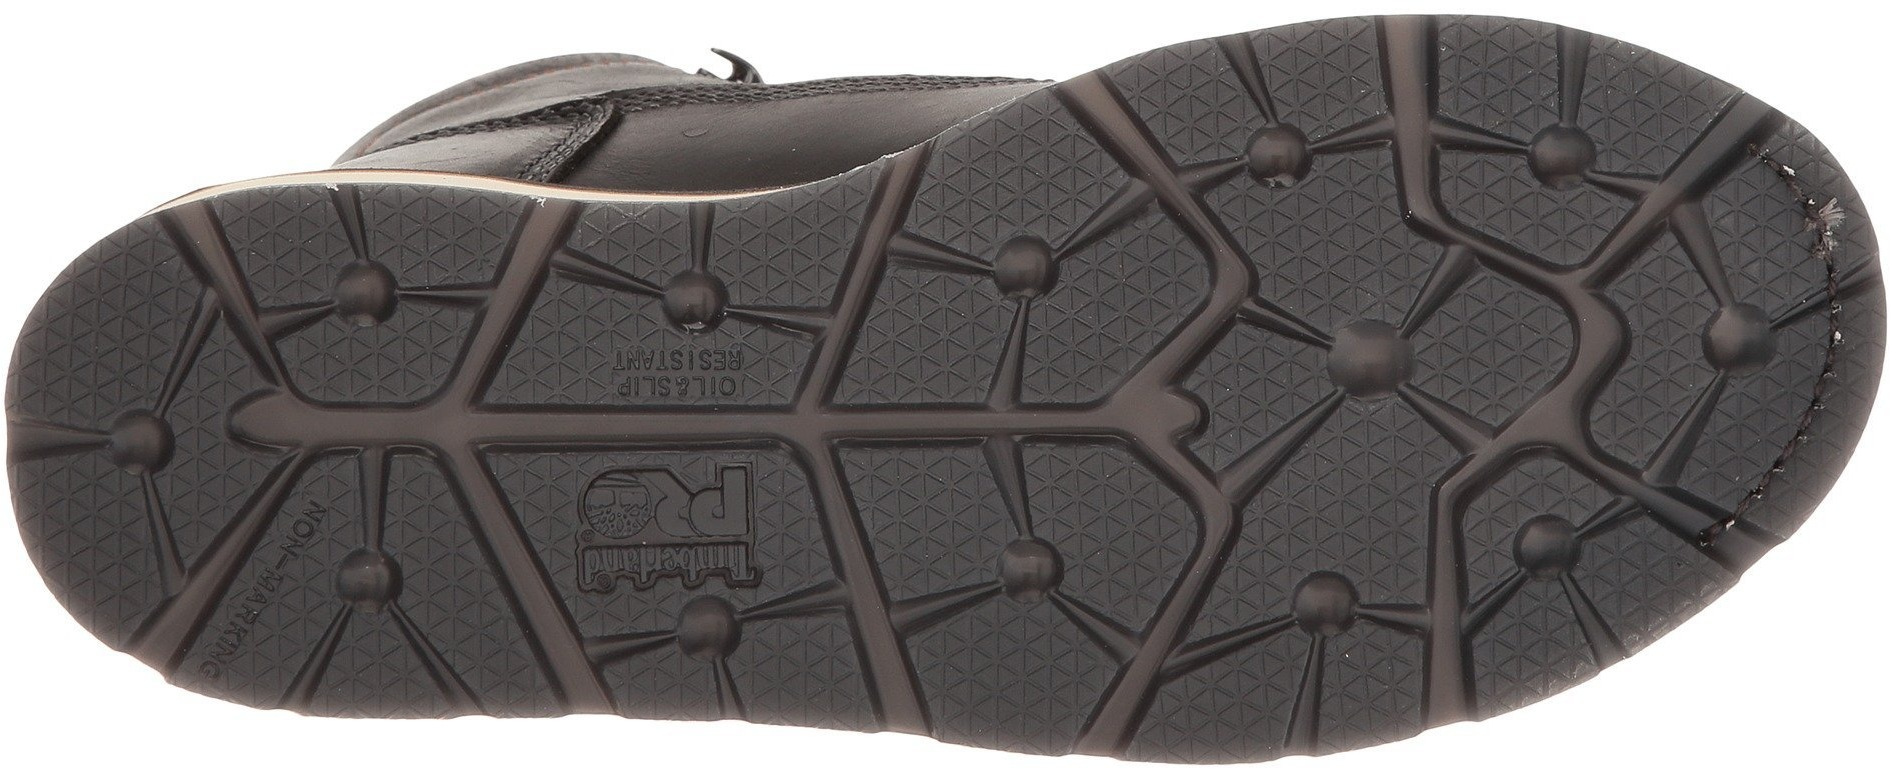text: (631, 454, 767, 587), (610, 321, 696, 410)
